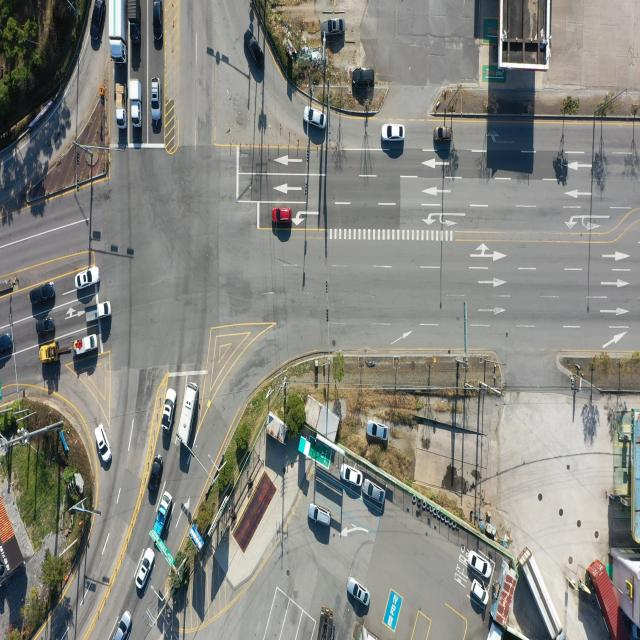car: (243, 31, 264, 71), (136, 546, 155, 588), (162, 389, 176, 438), (348, 577, 370, 608), (96, 425, 112, 465), (91, 1, 105, 45), (148, 456, 163, 497), (114, 610, 134, 640), (471, 552, 493, 579), (75, 267, 99, 291), (30, 283, 55, 305), (309, 505, 331, 529), (304, 106, 326, 129), (342, 463, 364, 486), (363, 481, 384, 505), (470, 580, 488, 607), (152, 0, 162, 47), (366, 421, 388, 441), (352, 67, 376, 85), (382, 124, 405, 142), (150, 77, 159, 120), (35, 317, 55, 336), (324, 19, 344, 36), (272, 208, 292, 224), (0, 334, 14, 356), (436, 127, 454, 142)
medium_truck: (524, 547, 565, 638), (110, 0, 128, 61), (317, 604, 333, 640)
small_bus: (175, 382, 197, 448)
small_truck: (154, 490, 172, 536), (130, 78, 144, 127), (84, 302, 112, 326), (74, 334, 99, 358), (127, 0, 139, 48), (116, 80, 127, 126)
